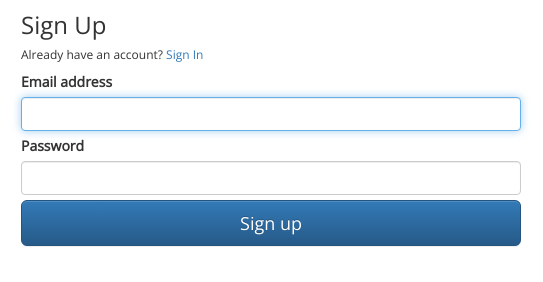
Test case: Signin test › should show an error message on failed sign up
This screenshot has width=543, height=282.
Type "admin@domain.com" into the field with test id "email".
click(271, 114); type("admin@domain.com")  # box [21,97,521,131]
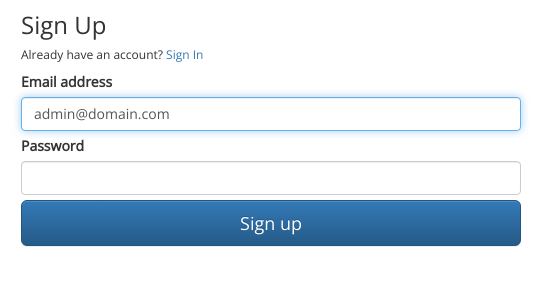
Type "123456" into the password field with test id "password".
click(271, 178); type("123456")  # box [21,161,521,195]
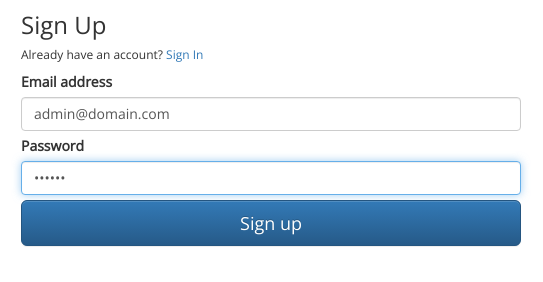
Click the button with test id "submit".
click(271, 223)  # box [21,200,521,246]
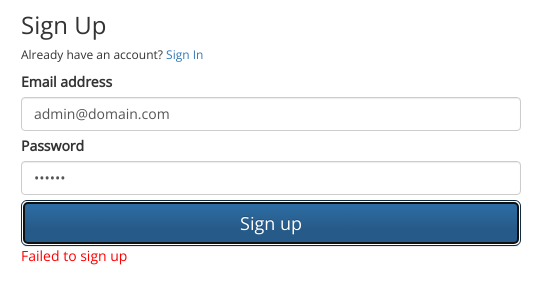
Check: the text "Failed to sign up" is shown, box [21,246,127,265]
